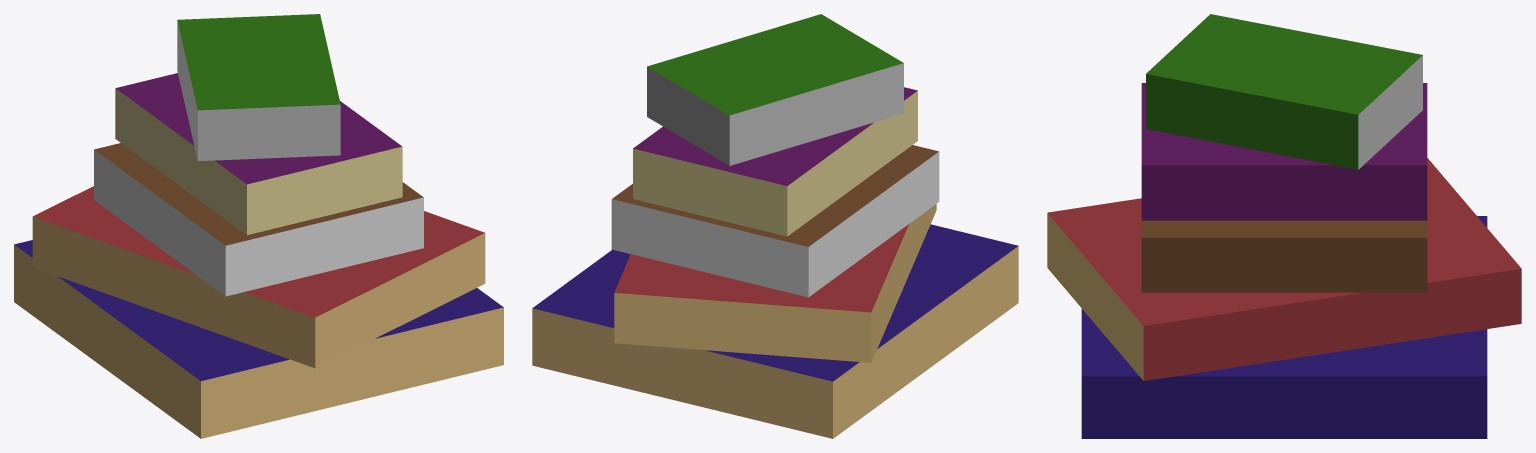
Rendered from books2.fbx.
3 views of the same model, side by side, from view 1: azimuth 30°, elevation 25°; view 2: azimuth 150°, elevation 25°; view 3: azimuth 270°, elevation 25° (orthographic). The views are drawn at different scales.
Parts seen in each view (by area): view 1: Cube.003; view 2: Cube.003; view 3: Cube.003.
Part boxes in pixels (box(x1,y1,x2,y2)): Cube.003: box(14, 14, 503, 438); Cube.003: box(532, 14, 1018, 438); Cube.003: box(1047, 14, 1521, 438).
Bounding box in the file's own units: 283 × 228 × 333.
